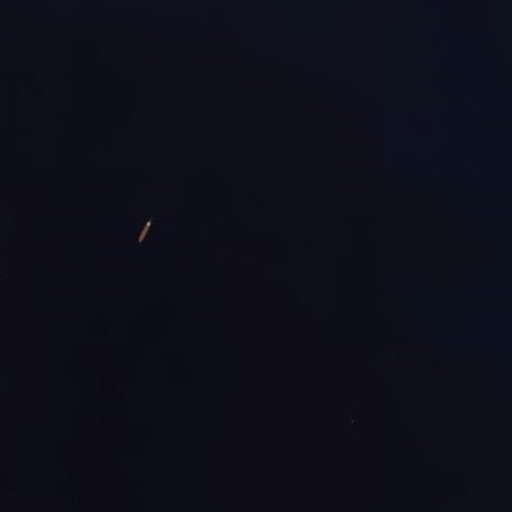ship: (135, 214, 156, 246)
